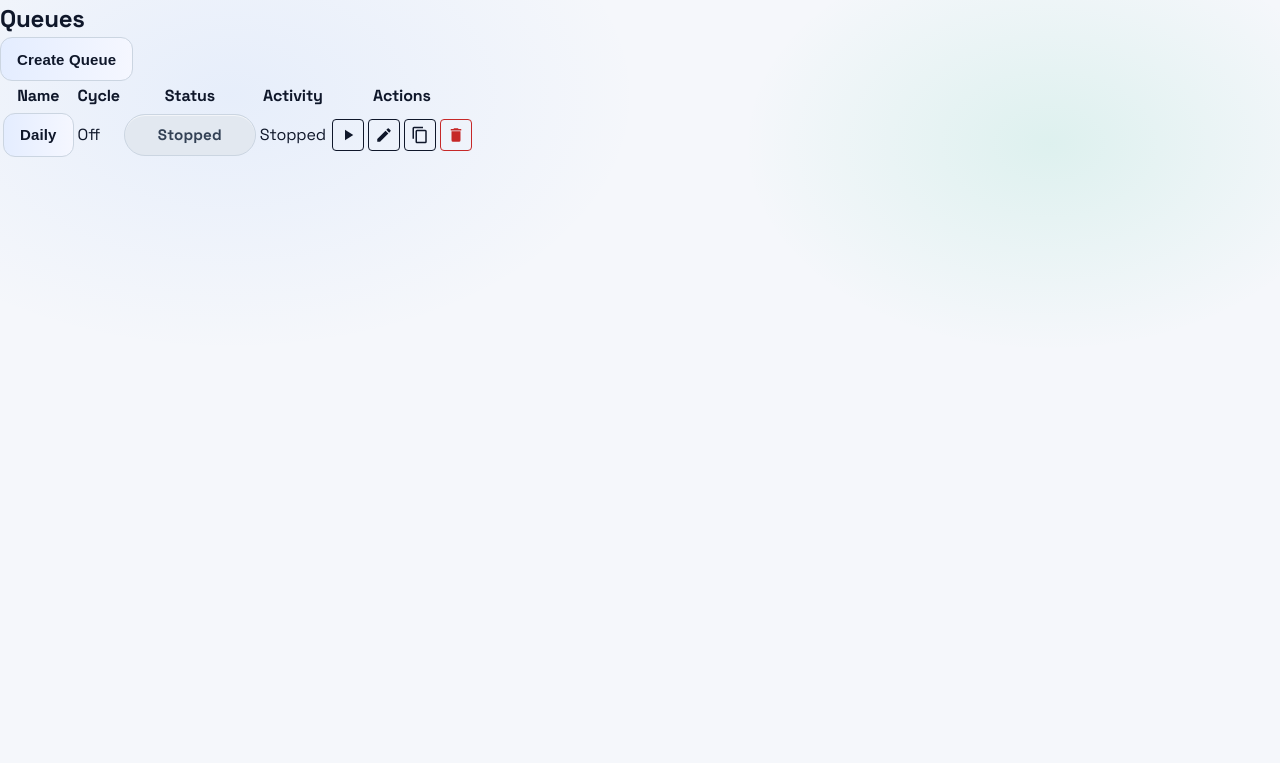
QueuesPage auto-load on open (US1) › shows the linked template name and the auto-loaded entries when opening a linked queue
Click the button "Daily": (38, 135) left=3, top=113, right=74, bottom=157
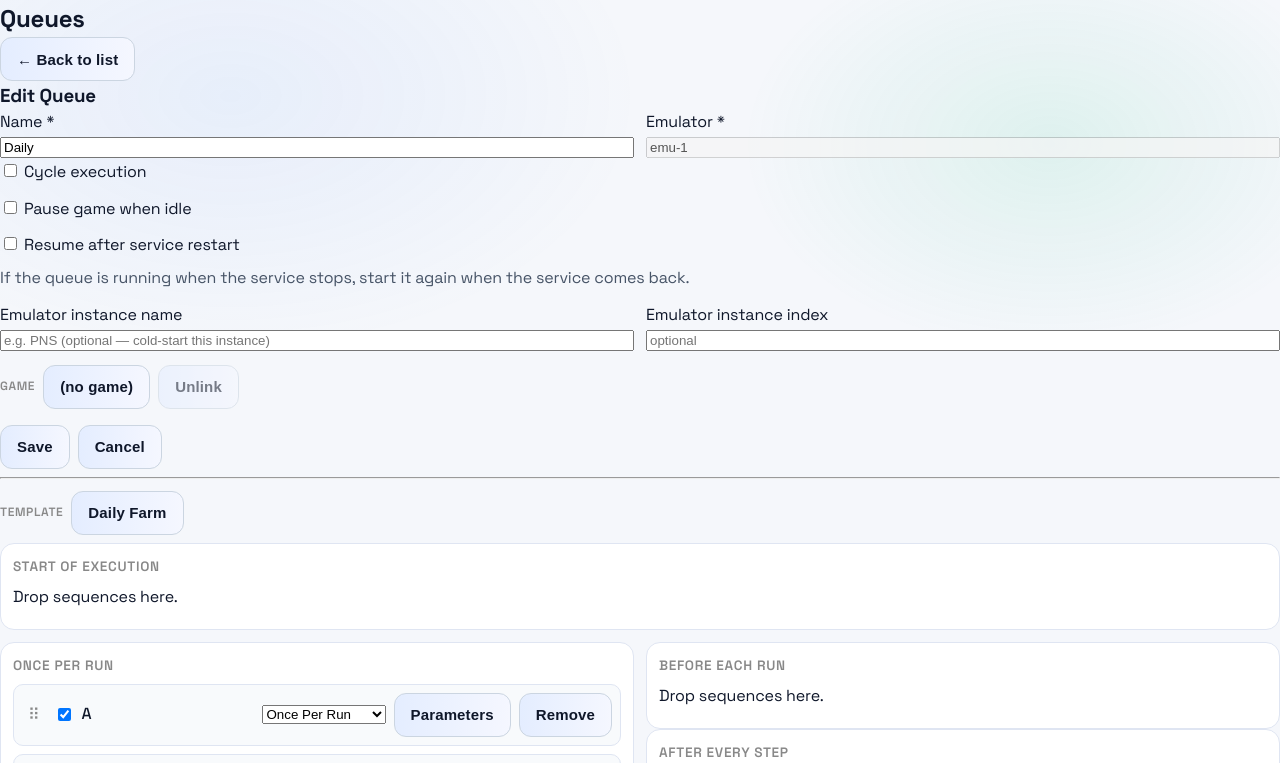
Expected: the heading "Edit Queue" is shown, left=0, top=84, right=96, bottom=107
Expected: the button "Daily Farm" is shown, left=71, top=491, right=184, bottom=535
